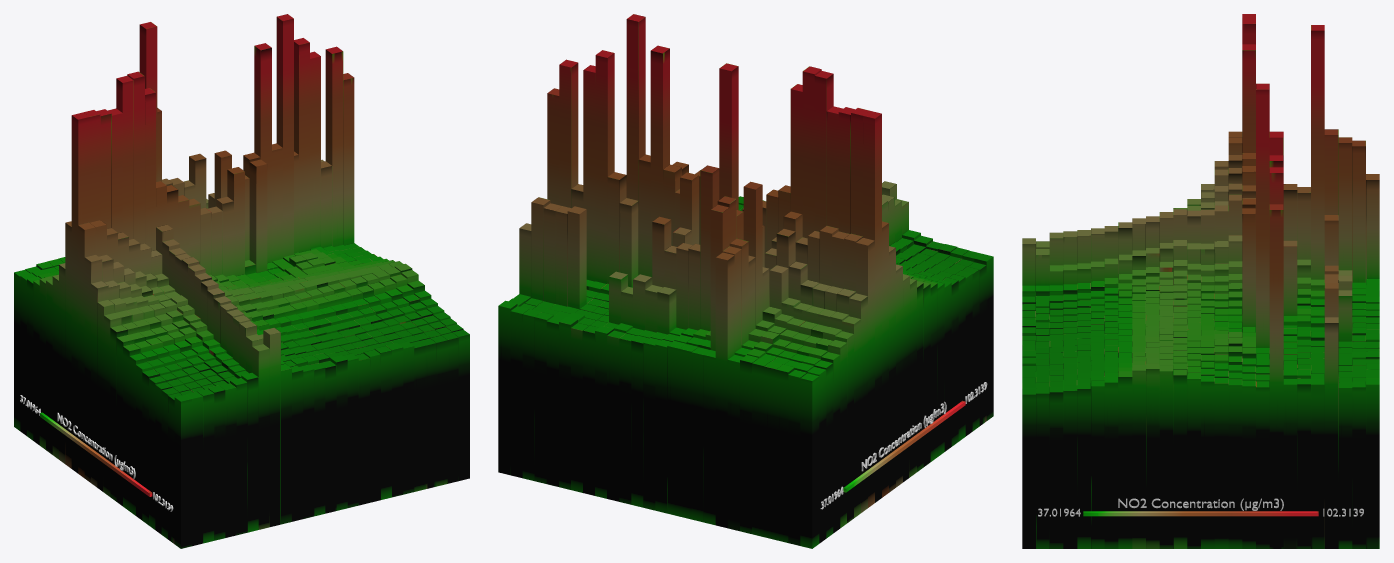
3 views of the same model, side by side, from view 1: azimuth 30°, elevation 25°; view 2: azimuth 150°, elevation 25°; view 3: azimuth 270°, elevation 25° (orthographic). The views are drawn at different scales.
Parts seen in each view (by area): view 1: Cube.400, Cube.002, Text.001; view 2: Cube.400, Cube.002, Text.001; view 3: Cube.400, Cube.001, Text.003.
Boxes of the visible parts, x1=… form: Cube.400: x1=14, y1=14, x2=469, y2=548; Cube.002: x1=40, y1=412, x2=152, y2=496; Text.001: x1=57, y1=412, x2=135, y2=479; Cube.400: x1=498, y1=14, x2=993, y2=548; Cube.002: x1=843, y1=400, x2=965, y2=492; Text.001: x1=861, y1=401, x2=946, y2=471; Cube.400: x1=1022, y1=14, x2=1379, y2=548; Cube.001: x1=1083, y1=511, x2=1318, y2=516; Text.003: x1=1118, y1=498, x2=1283, y2=510.
Size of the model in its own units: 51.18 by 65.91 by 50.24.
Materials: 3 (2 with a texture image).
